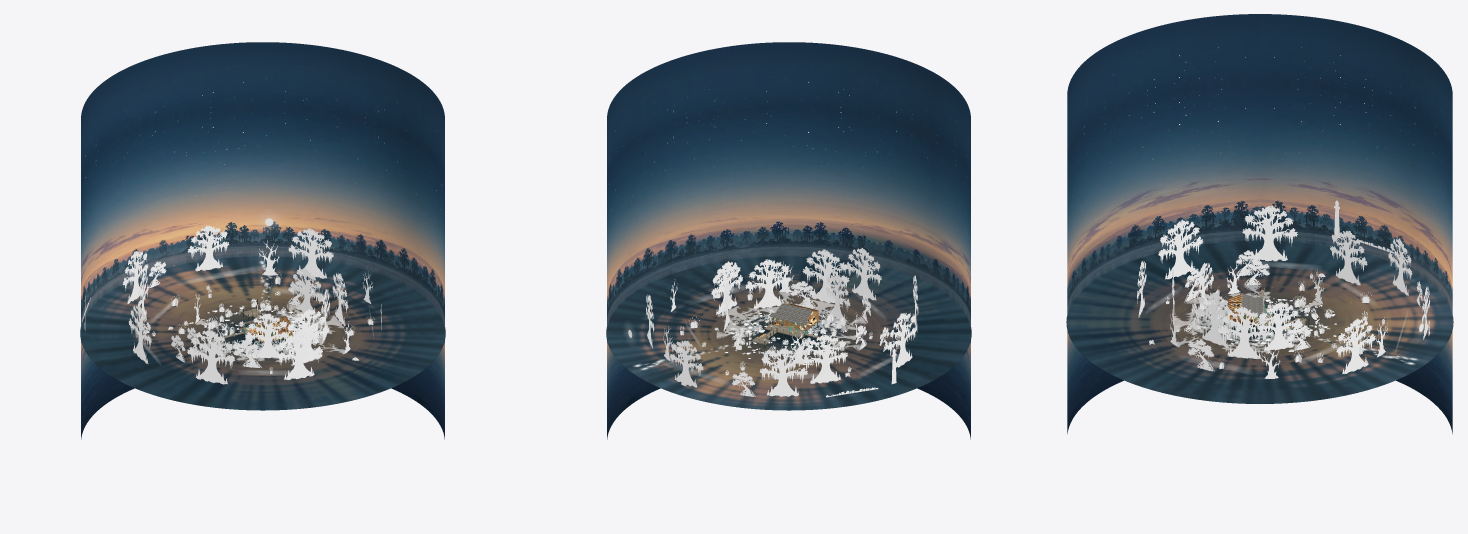
Rendered from sals_hut.glb.
The picture shows the model from 3 angles, left to right: view 1: azimuth 30°, elevation 25°; view 2: azimuth 150°, elevation 25°; view 3: azimuth 270°, elevation 25°; orthographic projection. The views are drawn at different scales.
Parts seen in each view (by area): view 1: marsh, water, trees_far, marsh_back, trees, Reeds, trees_wake; view 2: marsh_back, water, marsh, trees_far, trees, trees_wake, Reeds; view 3: marsh_back, marsh, water, trees_far, trees, trees_wake, Reeds.
Boxes of the visible parts, box(x1,y1,x2,y2) form: marsh: box(81, 42, 420, 439); water: box(80, 256, 445, 410); trees_far: box(122, 225, 381, 384); marsh_back: box(420, 81, 444, 439); trees: box(187, 268, 351, 367); Reeds: box(143, 272, 374, 373); trees_wake: box(196, 304, 345, 367); marsh_back: box(631, 42, 970, 439); water: box(606, 256, 971, 410); marsh: box(607, 81, 631, 439); trees_far: box(646, 248, 918, 396); trees: box(711, 249, 870, 362); trees_wake: box(716, 293, 866, 357); Reeds: box(675, 282, 872, 379); marsh_back: box(1067, 14, 1259, 433); marsh: box(1260, 14, 1452, 433); water: box(1066, 240, 1453, 403); trees_far: box(1137, 205, 1430, 378); trees: box(1169, 260, 1324, 358); trees_wake: box(1173, 285, 1321, 358); Reeds: box(1149, 273, 1384, 368).
Size of what is drawn, in the model's own units: 80.32 by 78.54 by 80.32.
Materials: 93 (74 with a texture image).
